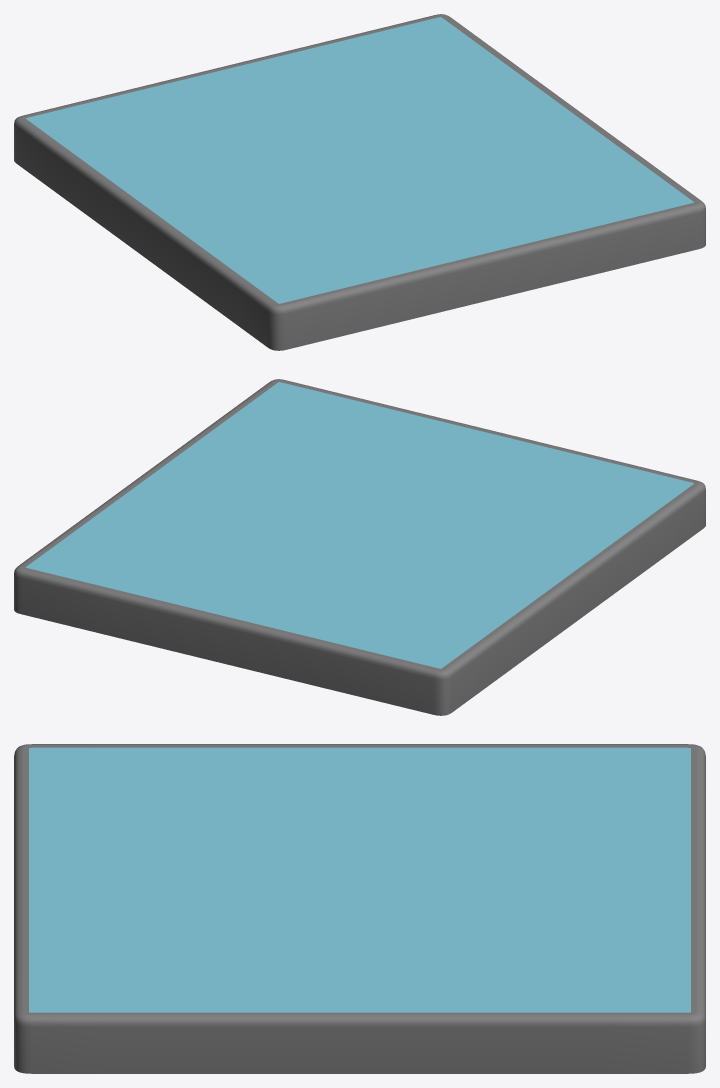
Rendered from CanBoard.fbx.
The picture shows the model from 3 angles, top to bottom: view 1: azimuth 30°, elevation 25°; view 2: azimuth 150°, elevation 25°; view 3: azimuth 270°, elevation 25°; orthographic projection. The views are drawn at different scales.
Visible parts, largest first — view 1: Board; view 2: Board; view 3: Board.
Boxes of the visible parts, x1,y1,x2,y2 form: Board: [14, 14, 705, 350]; Board: [14, 379, 705, 715]; Board: [14, 744, 705, 1073].
Bounding box in the file's own units: 1104 × 102 × 1164.
